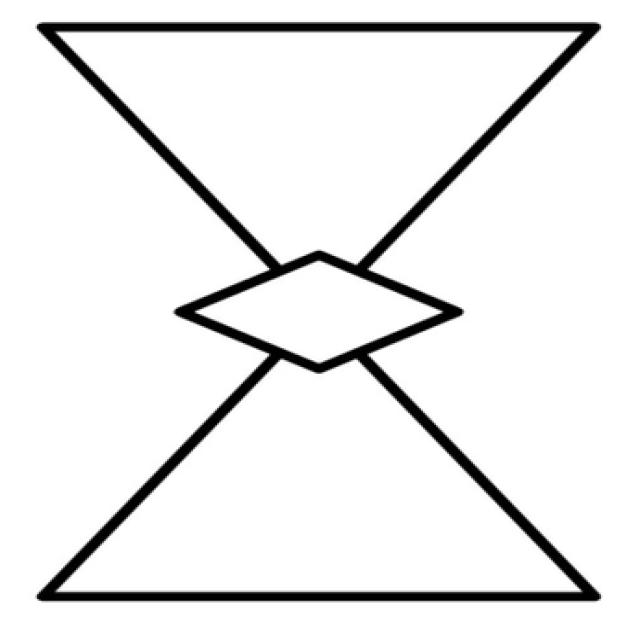Plug Valve: (39, 23, 598, 596)
